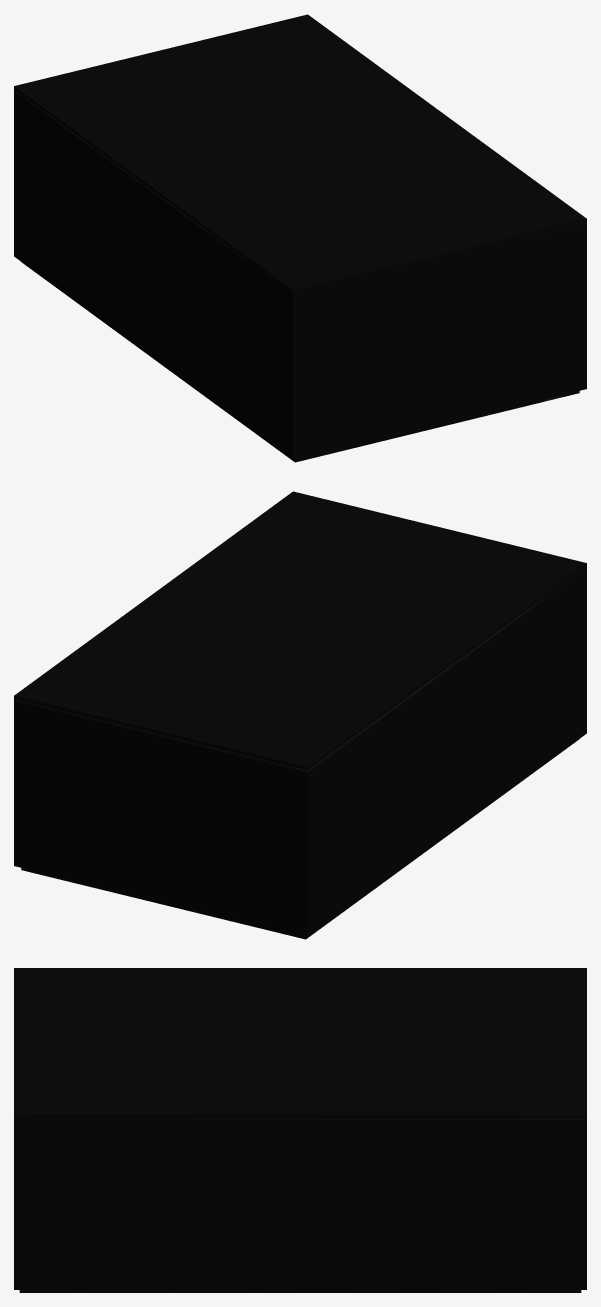
The model's file is cinema_multiplex.glb.
3 views of the same model, one above another, from view 1: azimuth 30°, elevation 25°; view 2: azimuth 150°, elevation 25°; view 3: azimuth 270°, elevation 25° (orthographic). The views are drawn at different scales.
Parts seen in each view (by area): view 1: Walls_All, Ceiling, Floor; view 2: Walls_All, Ceiling, Floor; view 3: Walls_All, Ceiling, Floor.
Boxes of the visible parts, x1,y1,x2,y2 form: Walls_All: [14, 91, 586, 460]; Ceiling: [14, 14, 586, 295]; Floor: [21, 262, 579, 462]; Walls_All: [14, 568, 586, 937]; Ceiling: [14, 491, 586, 772]; Floor: [21, 739, 579, 939]; Walls_All: [14, 1120, 586, 1289]; Ceiling: [14, 968, 586, 1120]; Floor: [19, 1290, 581, 1292].
Bounding box in the file's own units: 18.6 × 10.6 × 30.6.
Materials: 12 (11 with a texture image).
